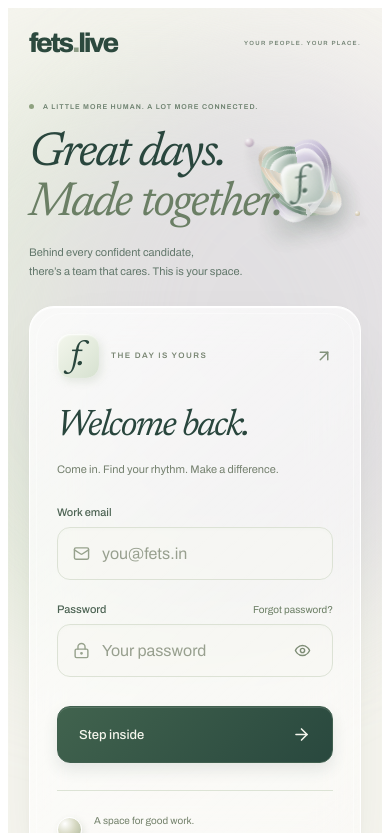
it: premium sign in › uses the existing recovery redirect and keeps errors retryable
The image size is (390, 833).
Type "staff@fets.in" into the field labelled "Work email" at {"x": 210, "y": 554}, box [102,529,317,578]
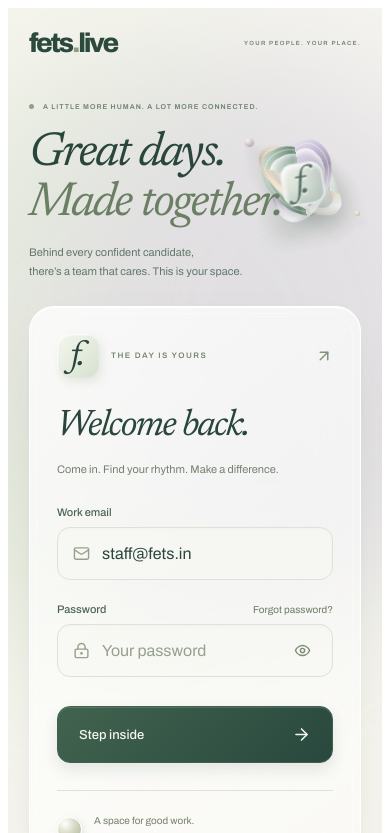
Click the button "Forgot password?" at {"x": 293, "y": 610}, box [253,604,333,615]
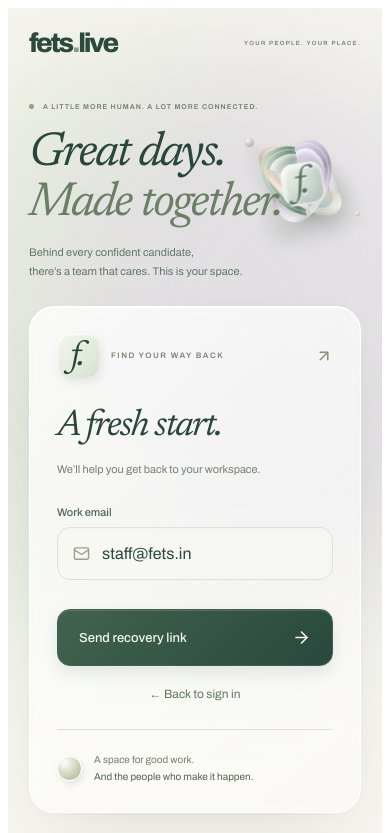
Click the button "Send recovery link" at {"x": 133, "y": 638}, box [57,609,333,666]
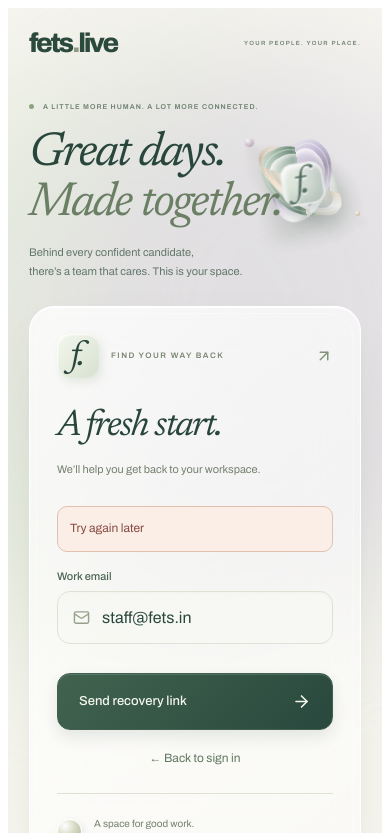
Expected: the message reads "Try again later", [70,521,144,535]
Click the button "Send recovery link" at {"x": 133, "y": 701}, box [57,673,333,730]
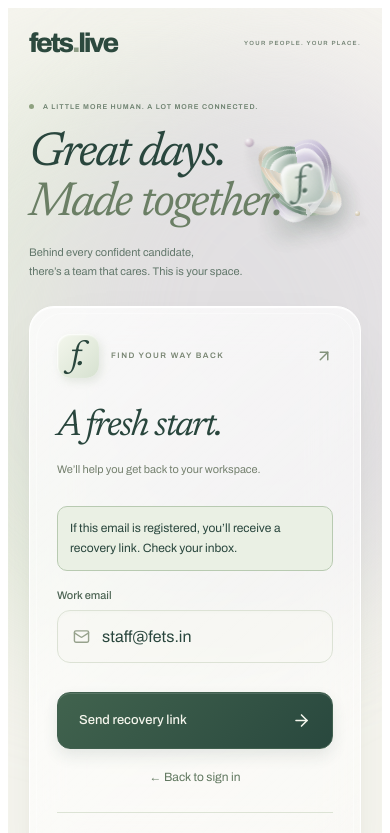
Expected: the message shows "If this email is registered", [70,521,280,555]
Click the button "← Back to sign in" at {"x": 195, "y": 777}, box [57,769,333,785]
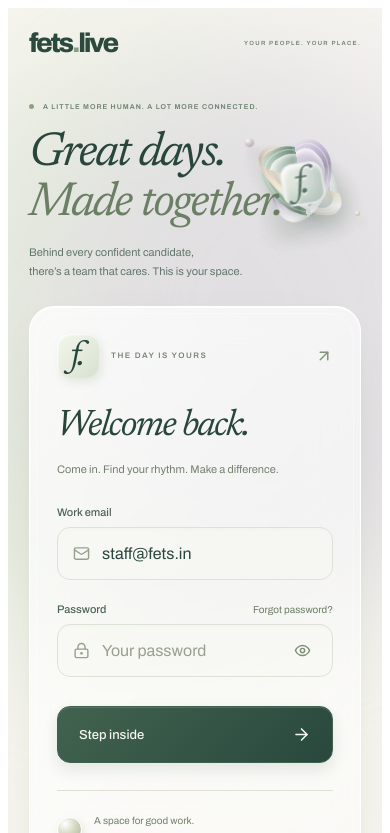
Expected: the password field labelled "Password" is shown, [102,626,276,675]
